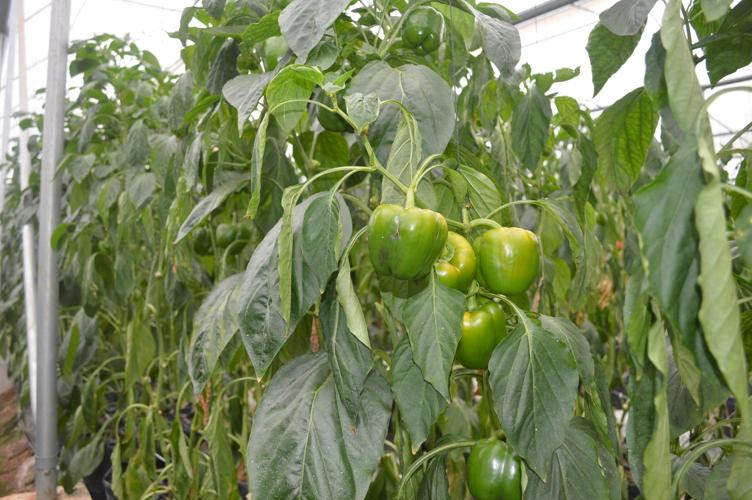BellPepper: (363, 204, 446, 280), (469, 222, 536, 296), (448, 298, 506, 373), (457, 440, 520, 497), (430, 232, 476, 290), (401, 5, 444, 58), (315, 88, 354, 132)
